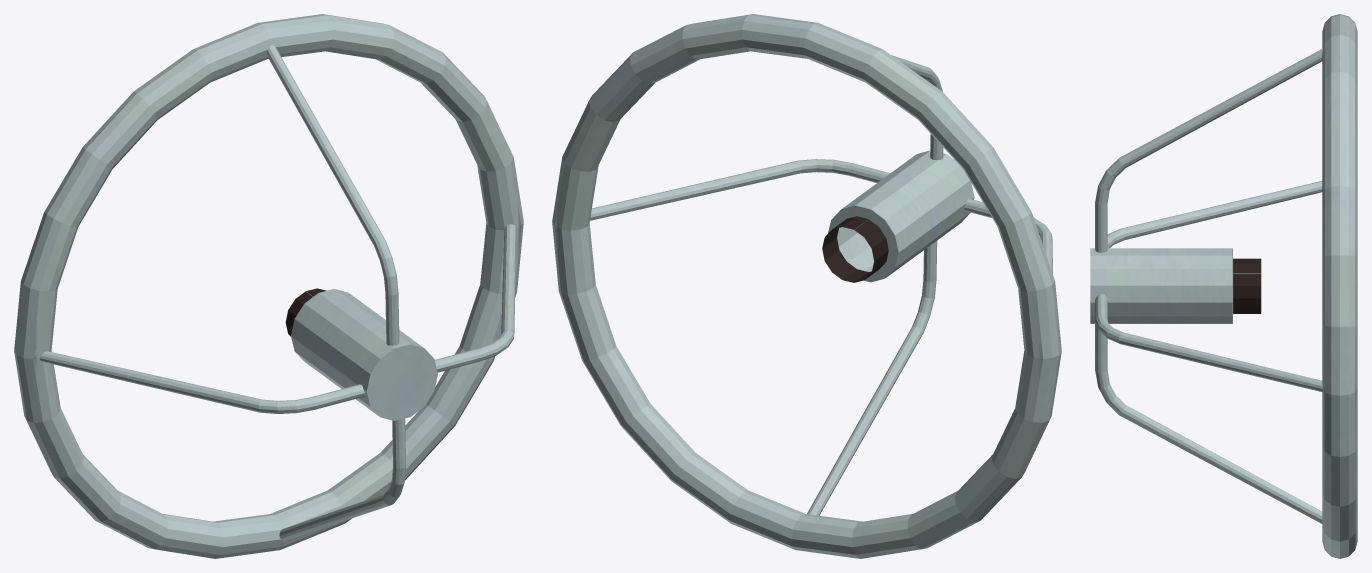
File: jypbzz001-geode.glb
The picture shows the model from 3 angles, left to right: view 1: azimuth 30°, elevation 25°; view 2: azimuth 150°, elevation 25°; view 3: azimuth 270°, elevation 25°; orthographic projection. The views are drawn at different scales.
Parts seen in each view (by area): view 1: Node; view 2: Node; view 3: Node.
Boxes of the visible parts, box(x1,y1,x2,y2) form: Node: box(14, 14, 523, 558); Node: box(552, 14, 1061, 558); Node: box(1090, 14, 1357, 558).
Bounding box in the file's own units: 0.8877 × 0.8877 × 0.4328.
Materials: 1 (1 with a texture image).
